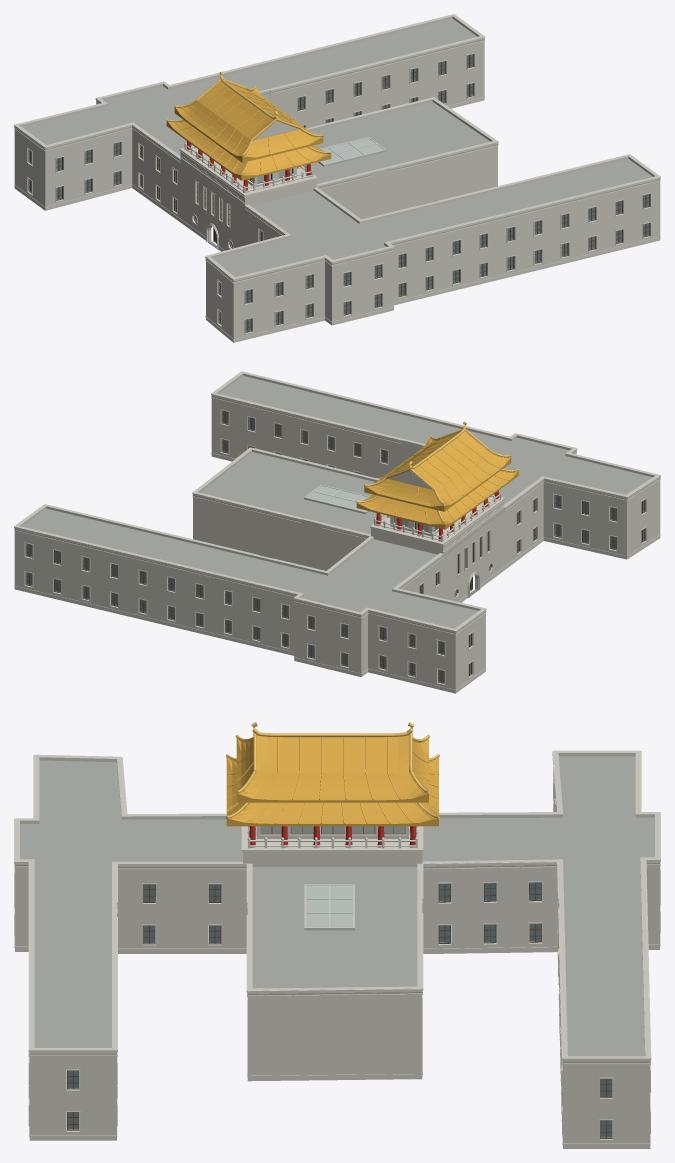
The model's file is yangpu-former-shanghai-city-museum-lod.glb.
3 views of the same model, one above another, from view 1: azimuth 30°, elevation 25°; view 2: azimuth 150°, elevation 25°; view 3: azimuth 270°, elevation 25° (orthographic). The views are drawn at different scales.
Visible parts, largest first — view 1: 旧上海市博物馆江湾馆舍; view 2: 旧上海市博物馆江湾馆舍; view 3: 旧上海市博物馆江湾馆舍.
Part boxes in pixels (bbox=[...]): 旧上海市博物馆江湾馆舍: bbox=[14, 14, 660, 342]; 旧上海市博物馆江湾馆舍: bbox=[14, 371, 660, 693]; 旧上海市博物馆江湾馆舍: bbox=[14, 722, 660, 1148].
Size of the model in its own units: 76.66 by 23.96 by 68.
